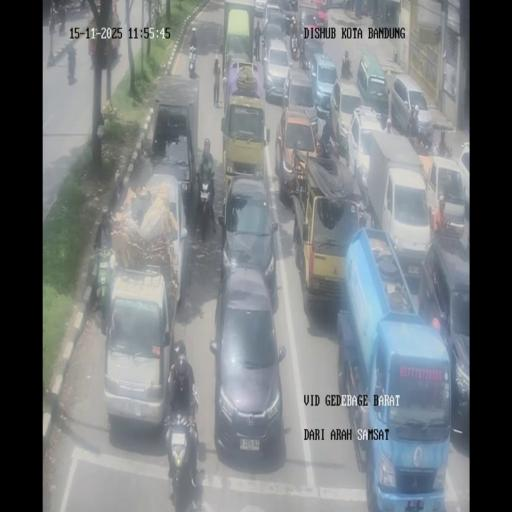3: (294, 170, 366, 319), (360, 130, 430, 279), (148, 79, 200, 219), (222, 0, 256, 85), (88, 2, 122, 68)
car: (212, 267, 286, 464), (102, 266, 174, 432), (417, 236, 469, 436), (219, 176, 278, 297), (423, 155, 466, 239), (391, 73, 433, 144), (331, 74, 365, 153), (281, 63, 317, 135), (356, 50, 388, 120), (262, 22, 286, 64), (301, 31, 324, 73), (308, 0, 334, 22), (280, 2, 298, 32), (254, 0, 267, 18)
truck: (163, 406, 201, 508), (89, 242, 117, 324), (194, 174, 216, 241), (417, 122, 450, 156), (169, 337, 188, 382), (66, 52, 76, 83), (341, 50, 352, 78), (316, 138, 331, 158), (188, 44, 197, 77), (290, 32, 300, 60), (252, 32, 260, 62), (88, 46, 96, 70), (48, 12, 56, 34), (58, 16, 66, 36), (154, 0, 162, 15), (361, 0, 368, 16), (79, 0, 87, 13)
